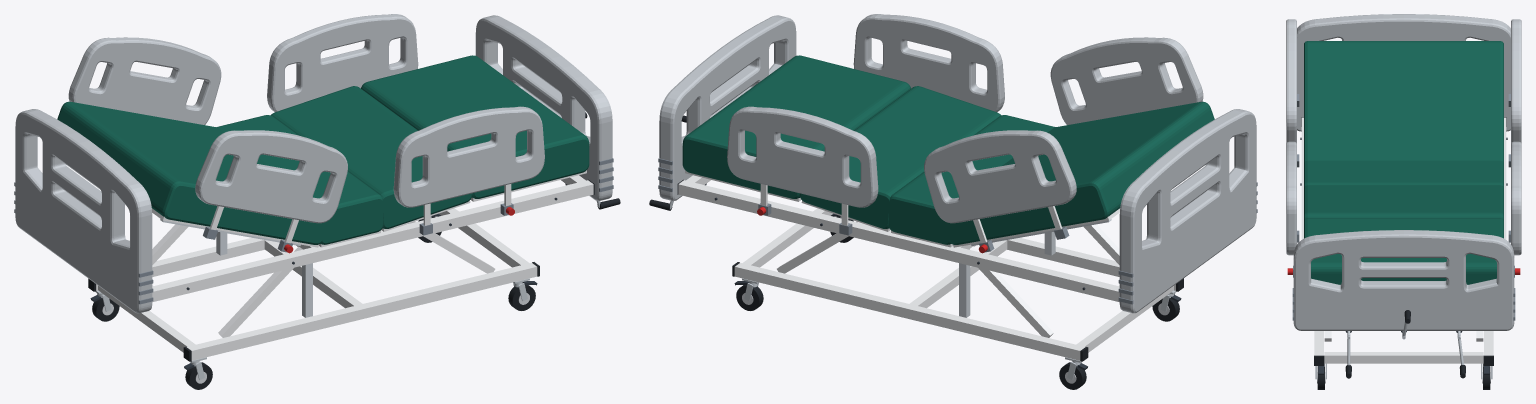
Rendered from cama-manual-yr.glb.
The picture shows the model from 3 angles, left to right: view 1: azimuth 30°, elevation 25°; view 2: azimuth 150°, elevation 25°; view 3: azimuth 270°, elevation 25°; orthographic projection. The views are drawn at different scales.
Parts seen in each view (by area): view 1: QuadroSuperior, ArticulacaoEncosto, BaseComRodizios, ArticulacaoPanturrilha, ArticulacaoCoxa, MecanismoElevacao; view 2: QuadroSuperior, ArticulacaoEncosto, BaseComRodizios, ArticulacaoPanturrilha, ArticulacaoCoxa, MecanismoElevacao; view 3: QuadroSuperior, ArticulacaoEncosto, ArticulacaoCoxa, ArticulacaoPanturrilha, BaseComRodizios.
Boxes of the visible parts, x1,y1,x2,y2 form: QuadroSuperior: [14, 14, 620, 313]; ArticulacaoEncosto: [57, 37, 347, 253]; BaseComRodizios: [88, 208, 539, 389]; ArticulacaoPanturrilha: [361, 55, 589, 201]; ArticulacaoCoxa: [271, 86, 472, 231]; MecanismoElevacao: [152, 221, 495, 337]; QuadroSuperior: [649, 14, 1257, 313]; ArticulacaoEncosto: [924, 37, 1214, 253]; BaseComRodizios: [732, 208, 1183, 389]; ArticulacaoPanturrilha: [682, 55, 910, 201]; ArticulacaoCoxa: [799, 86, 1000, 231]; MecanismoElevacao: [777, 221, 1119, 337]; QuadroSuperior: [1286, 14, 1521, 378]; ArticulacaoEncosto: [1286, 19, 1521, 167]; ArticulacaoCoxa: [1304, 185, 1503, 219]; ArticulacaoPanturrilha: [1304, 218, 1503, 284]; BaseComRodizios: [1314, 331, 1493, 389].
Size of the model in its own units: 2.28 by 1.12 by 1.02.
